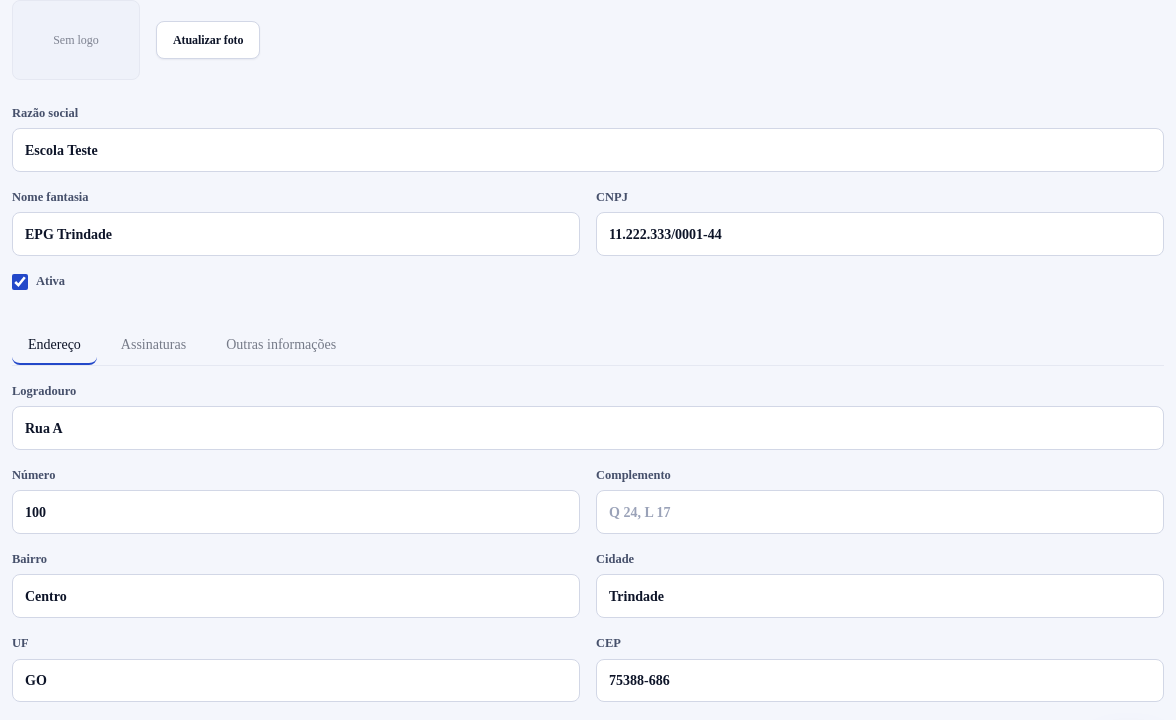
Scenario: CompanyForm › mostra as 3 abas e troca entre elas
Expected: the tab "Endereço" is shown, x1=12 y1=327 x2=97 y2=365
Expected: the tab "Outras informações" is shown, x1=210 y1=327 x2=352 y2=365
Click the tab "Assinaturas" at {"x": 154, "y": 346}, box x1=105 y1=327 x2=202 y2=365
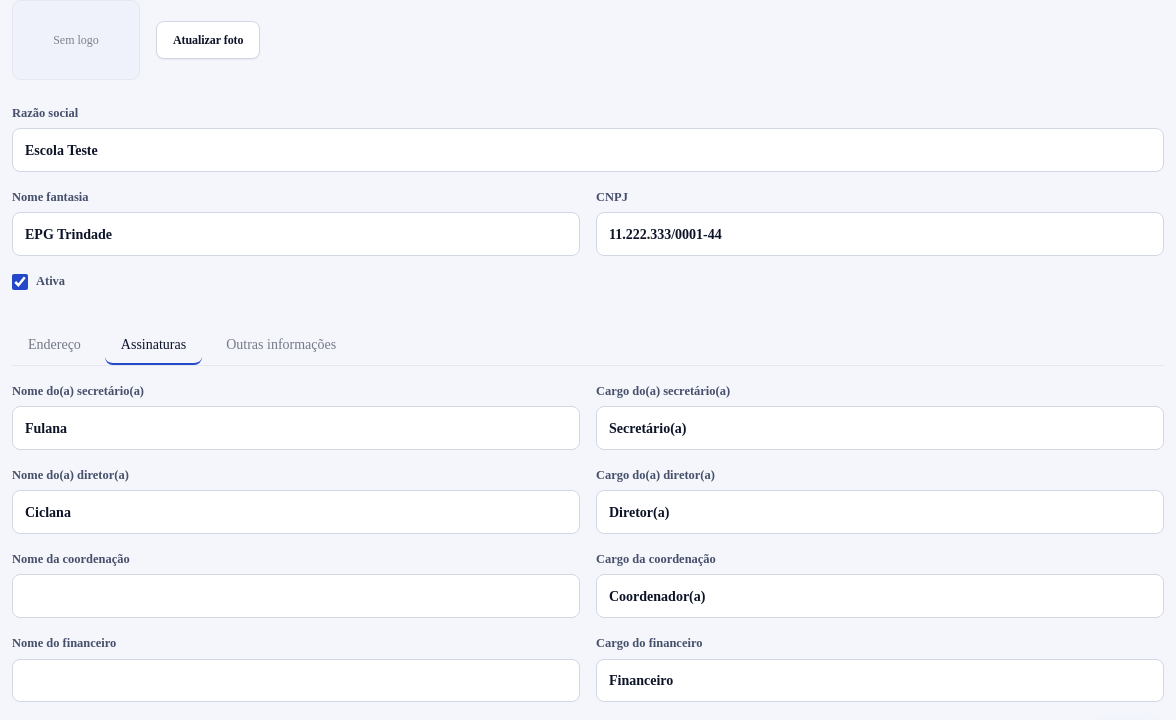
Expected: the field labelled "Nome da coordenação" is shown, x1=12 y1=574 x2=580 y2=618
Expected: the field labelled "Nome do financeiro" is shown, x1=12 y1=658 x2=580 y2=702
